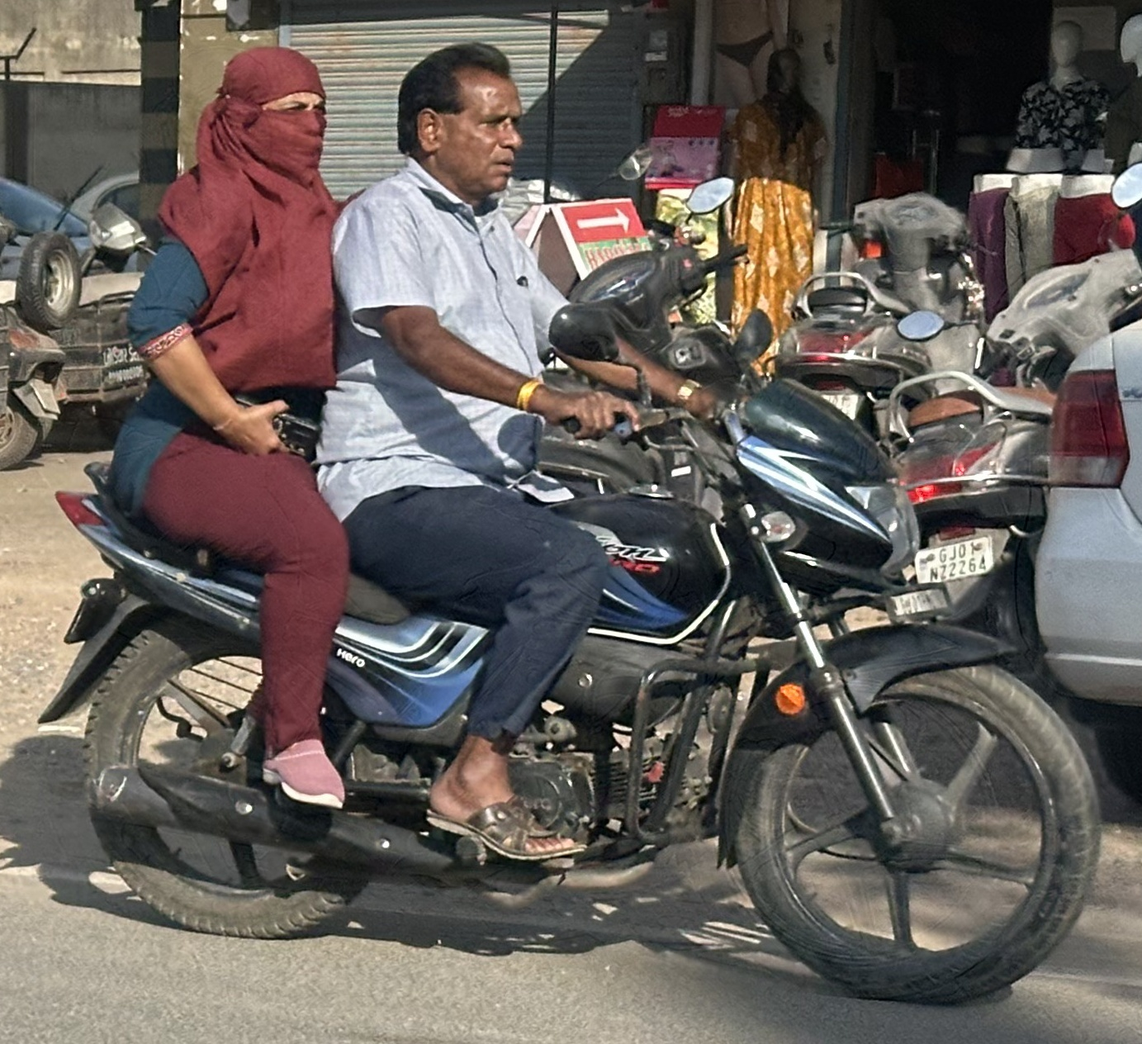BikeWithRider: (43, 37, 1111, 1009)
NoHelmet: (391, 37, 528, 198), (211, 42, 332, 191)
